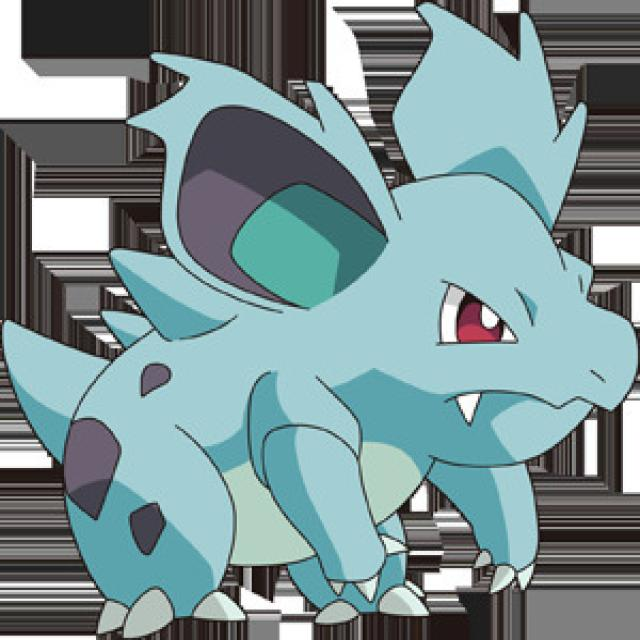Nidorina: (64, 52, 636, 638)
